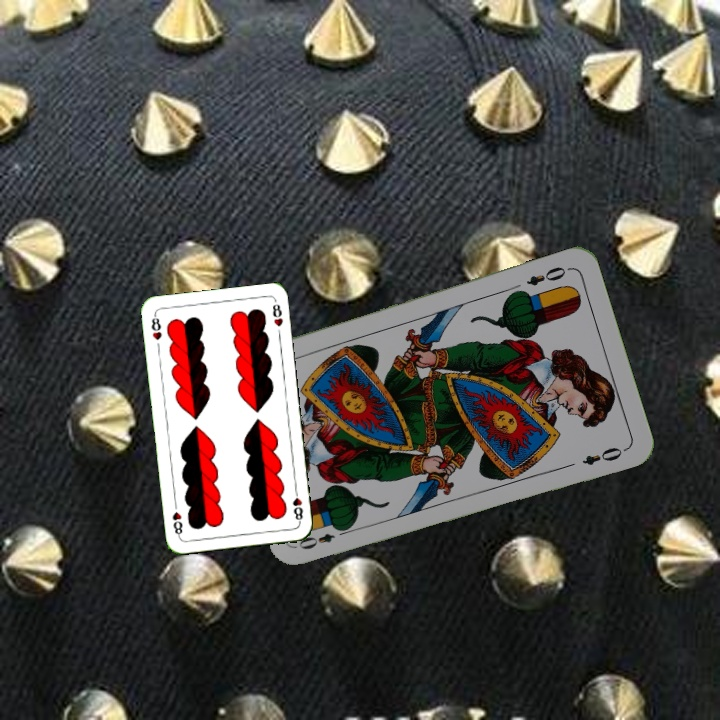EO: (294, 523, 352, 552), (522, 262, 573, 289)
H8: (289, 485, 306, 525), (147, 311, 164, 343)
